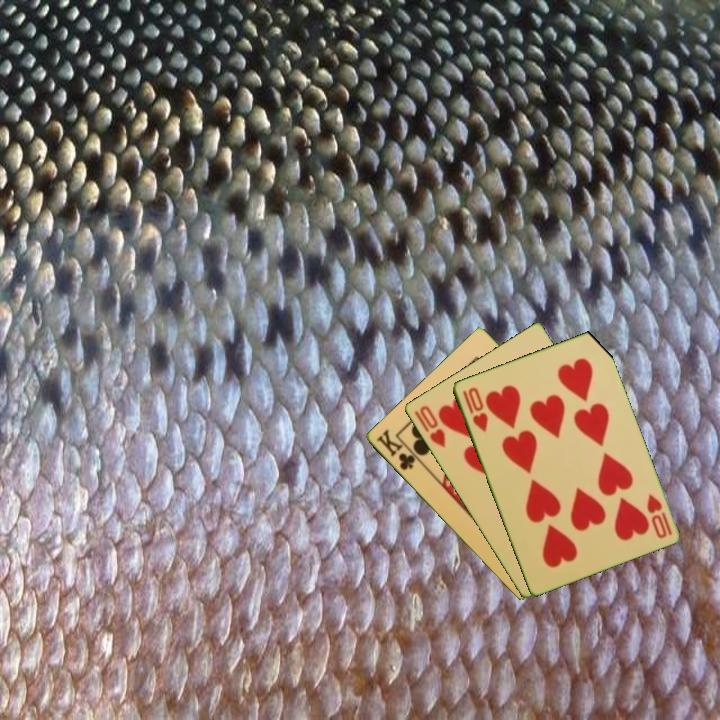10h: (410, 402, 448, 451), (459, 383, 491, 435), (643, 490, 674, 541)
Kc: (372, 426, 423, 473)
